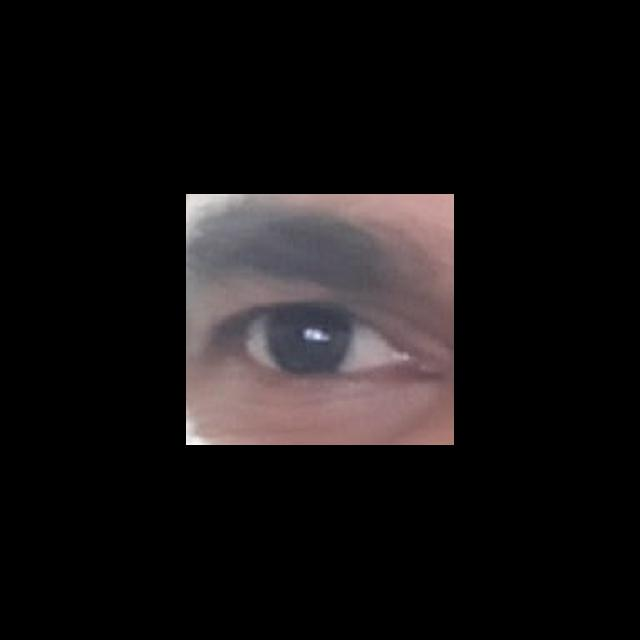eye: (242, 307, 407, 376)
iris: (268, 310, 351, 372)
